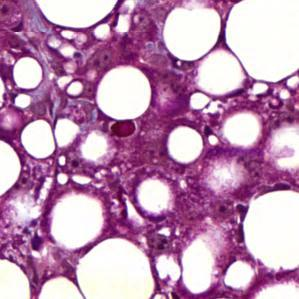steatosis: (94, 63, 155, 124), (160, 6, 222, 60), (163, 122, 206, 168), (20, 117, 60, 161)
